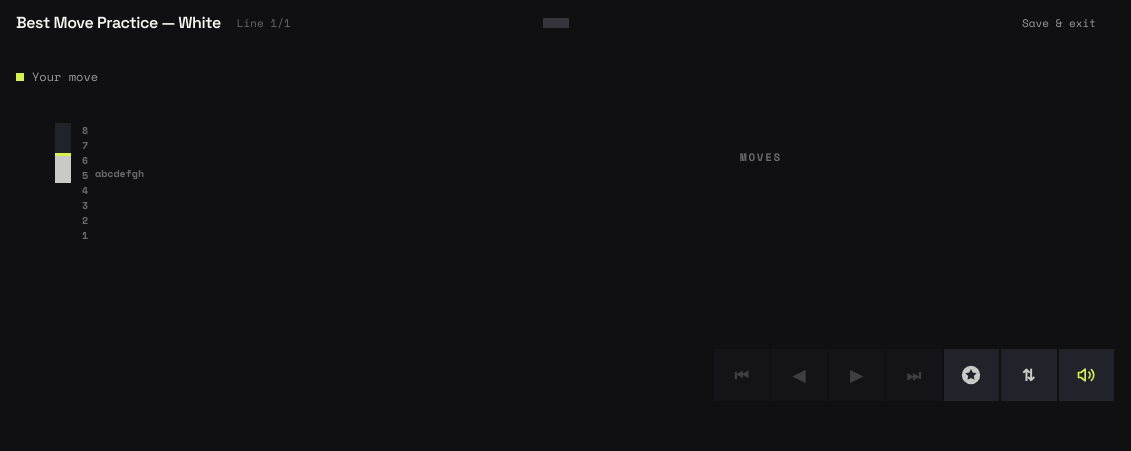
best move integration › shows an accessible failure and allows retry
Click the button named "Play best move" at (971, 375), box left=944, top=349, right=999, bottom=401
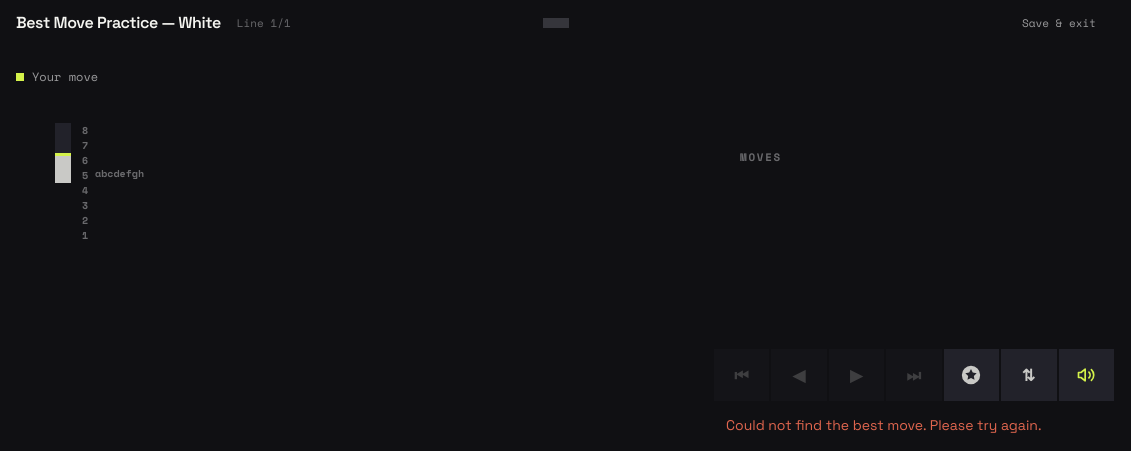
Check: the message shows "Please try again", box left=726, top=416, right=1042, bottom=434
